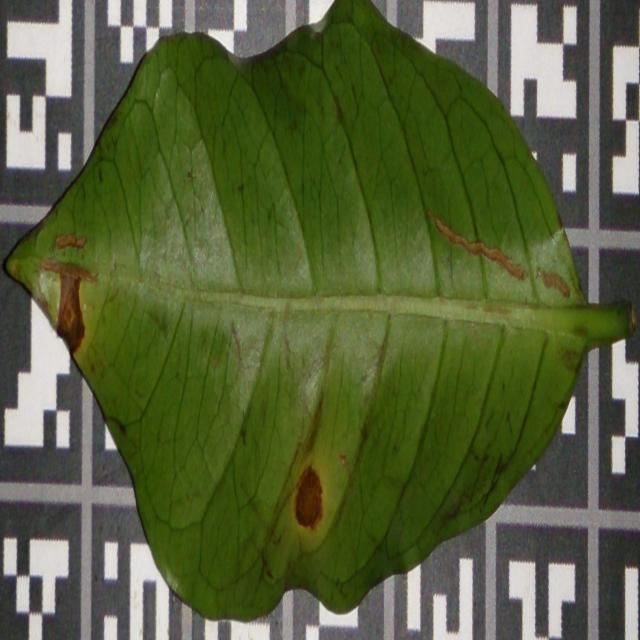Enfermedad-Mancha-de-hierro: (5, 0, 619, 625)
